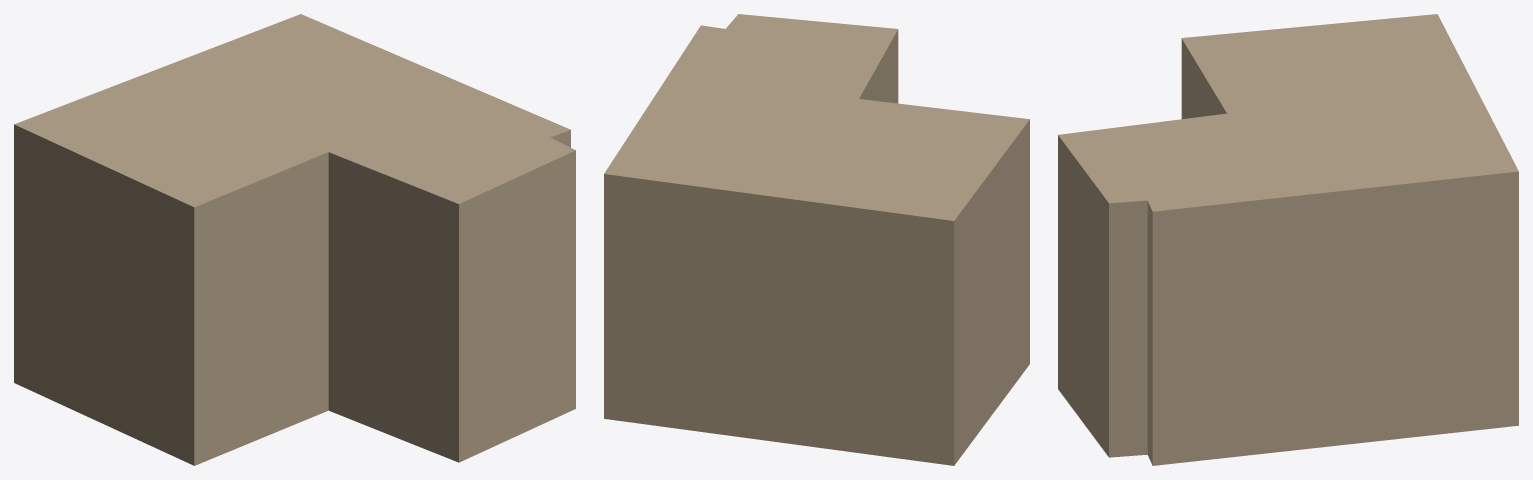
Rendered from bld_99003289.dae.
3 views of the same model, side by side, from view 1: azimuth 30°, elevation 25°; view 2: azimuth 150°, elevation 25°; view 3: azimuth 270°, elevation 25° (orthographic). The views are drawn at different scales.
Parts seen in each view (by area): view 1: Hayletts Gallery; view 2: Hayletts Gallery; view 3: Hayletts Gallery.
Boxes of the visible parts, box(x1,y1,x2,y2) form: Hayletts Gallery: box(14, 14, 575, 465); Hayletts Gallery: box(604, 14, 1029, 465); Hayletts Gallery: box(1058, 14, 1518, 465).
Bounding box in the file's own units: 13.35 × 13.15 × 8.
